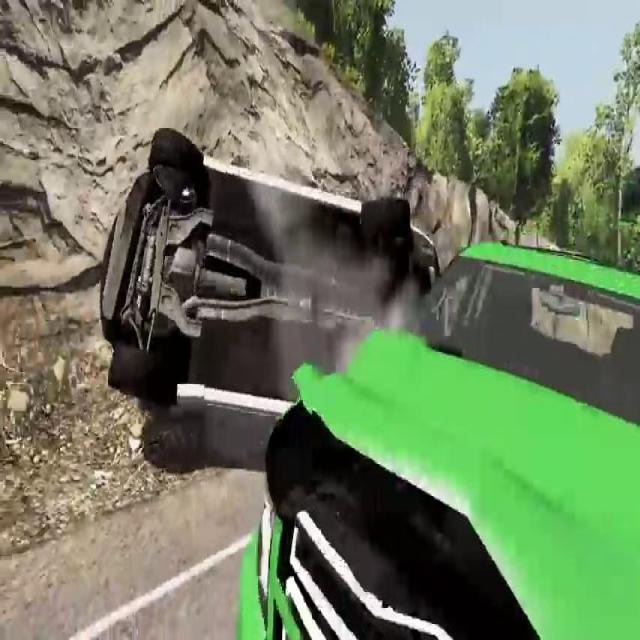severe: (94, 114, 445, 435)
